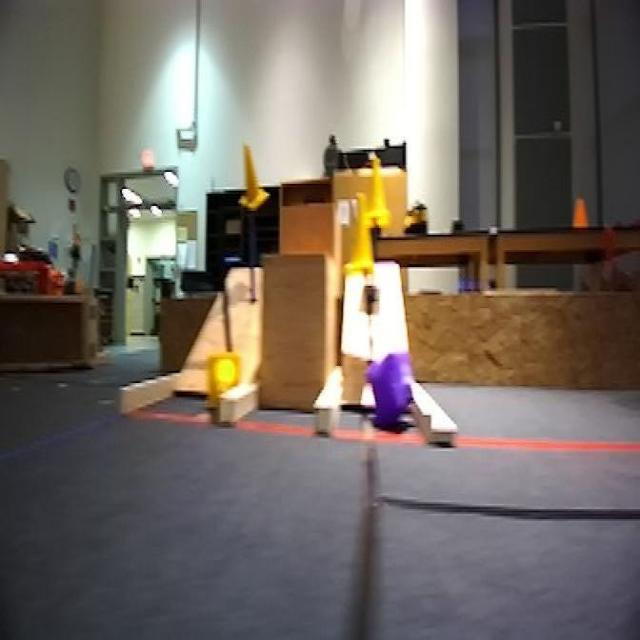frc_cone: (235, 138, 269, 214), (347, 199, 374, 278), (206, 354, 242, 410), (364, 157, 386, 221)
frc_cube: (361, 349, 411, 429)
